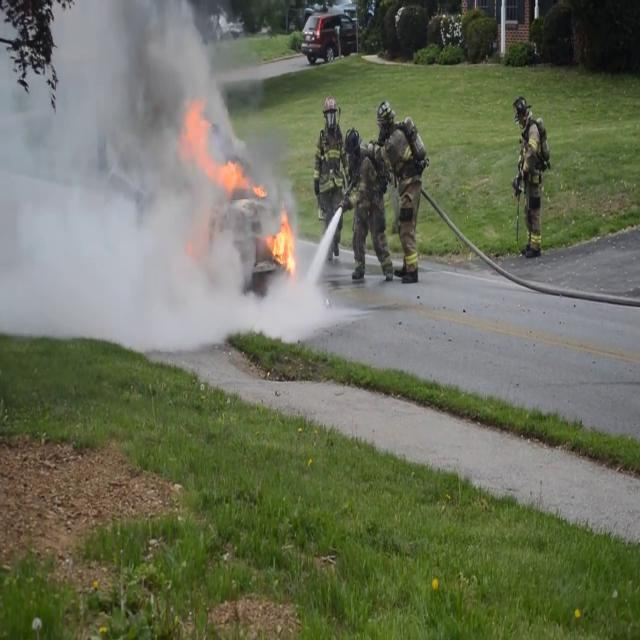Fire: (268, 208, 296, 276)
Smoke: (0, 1, 261, 347)
